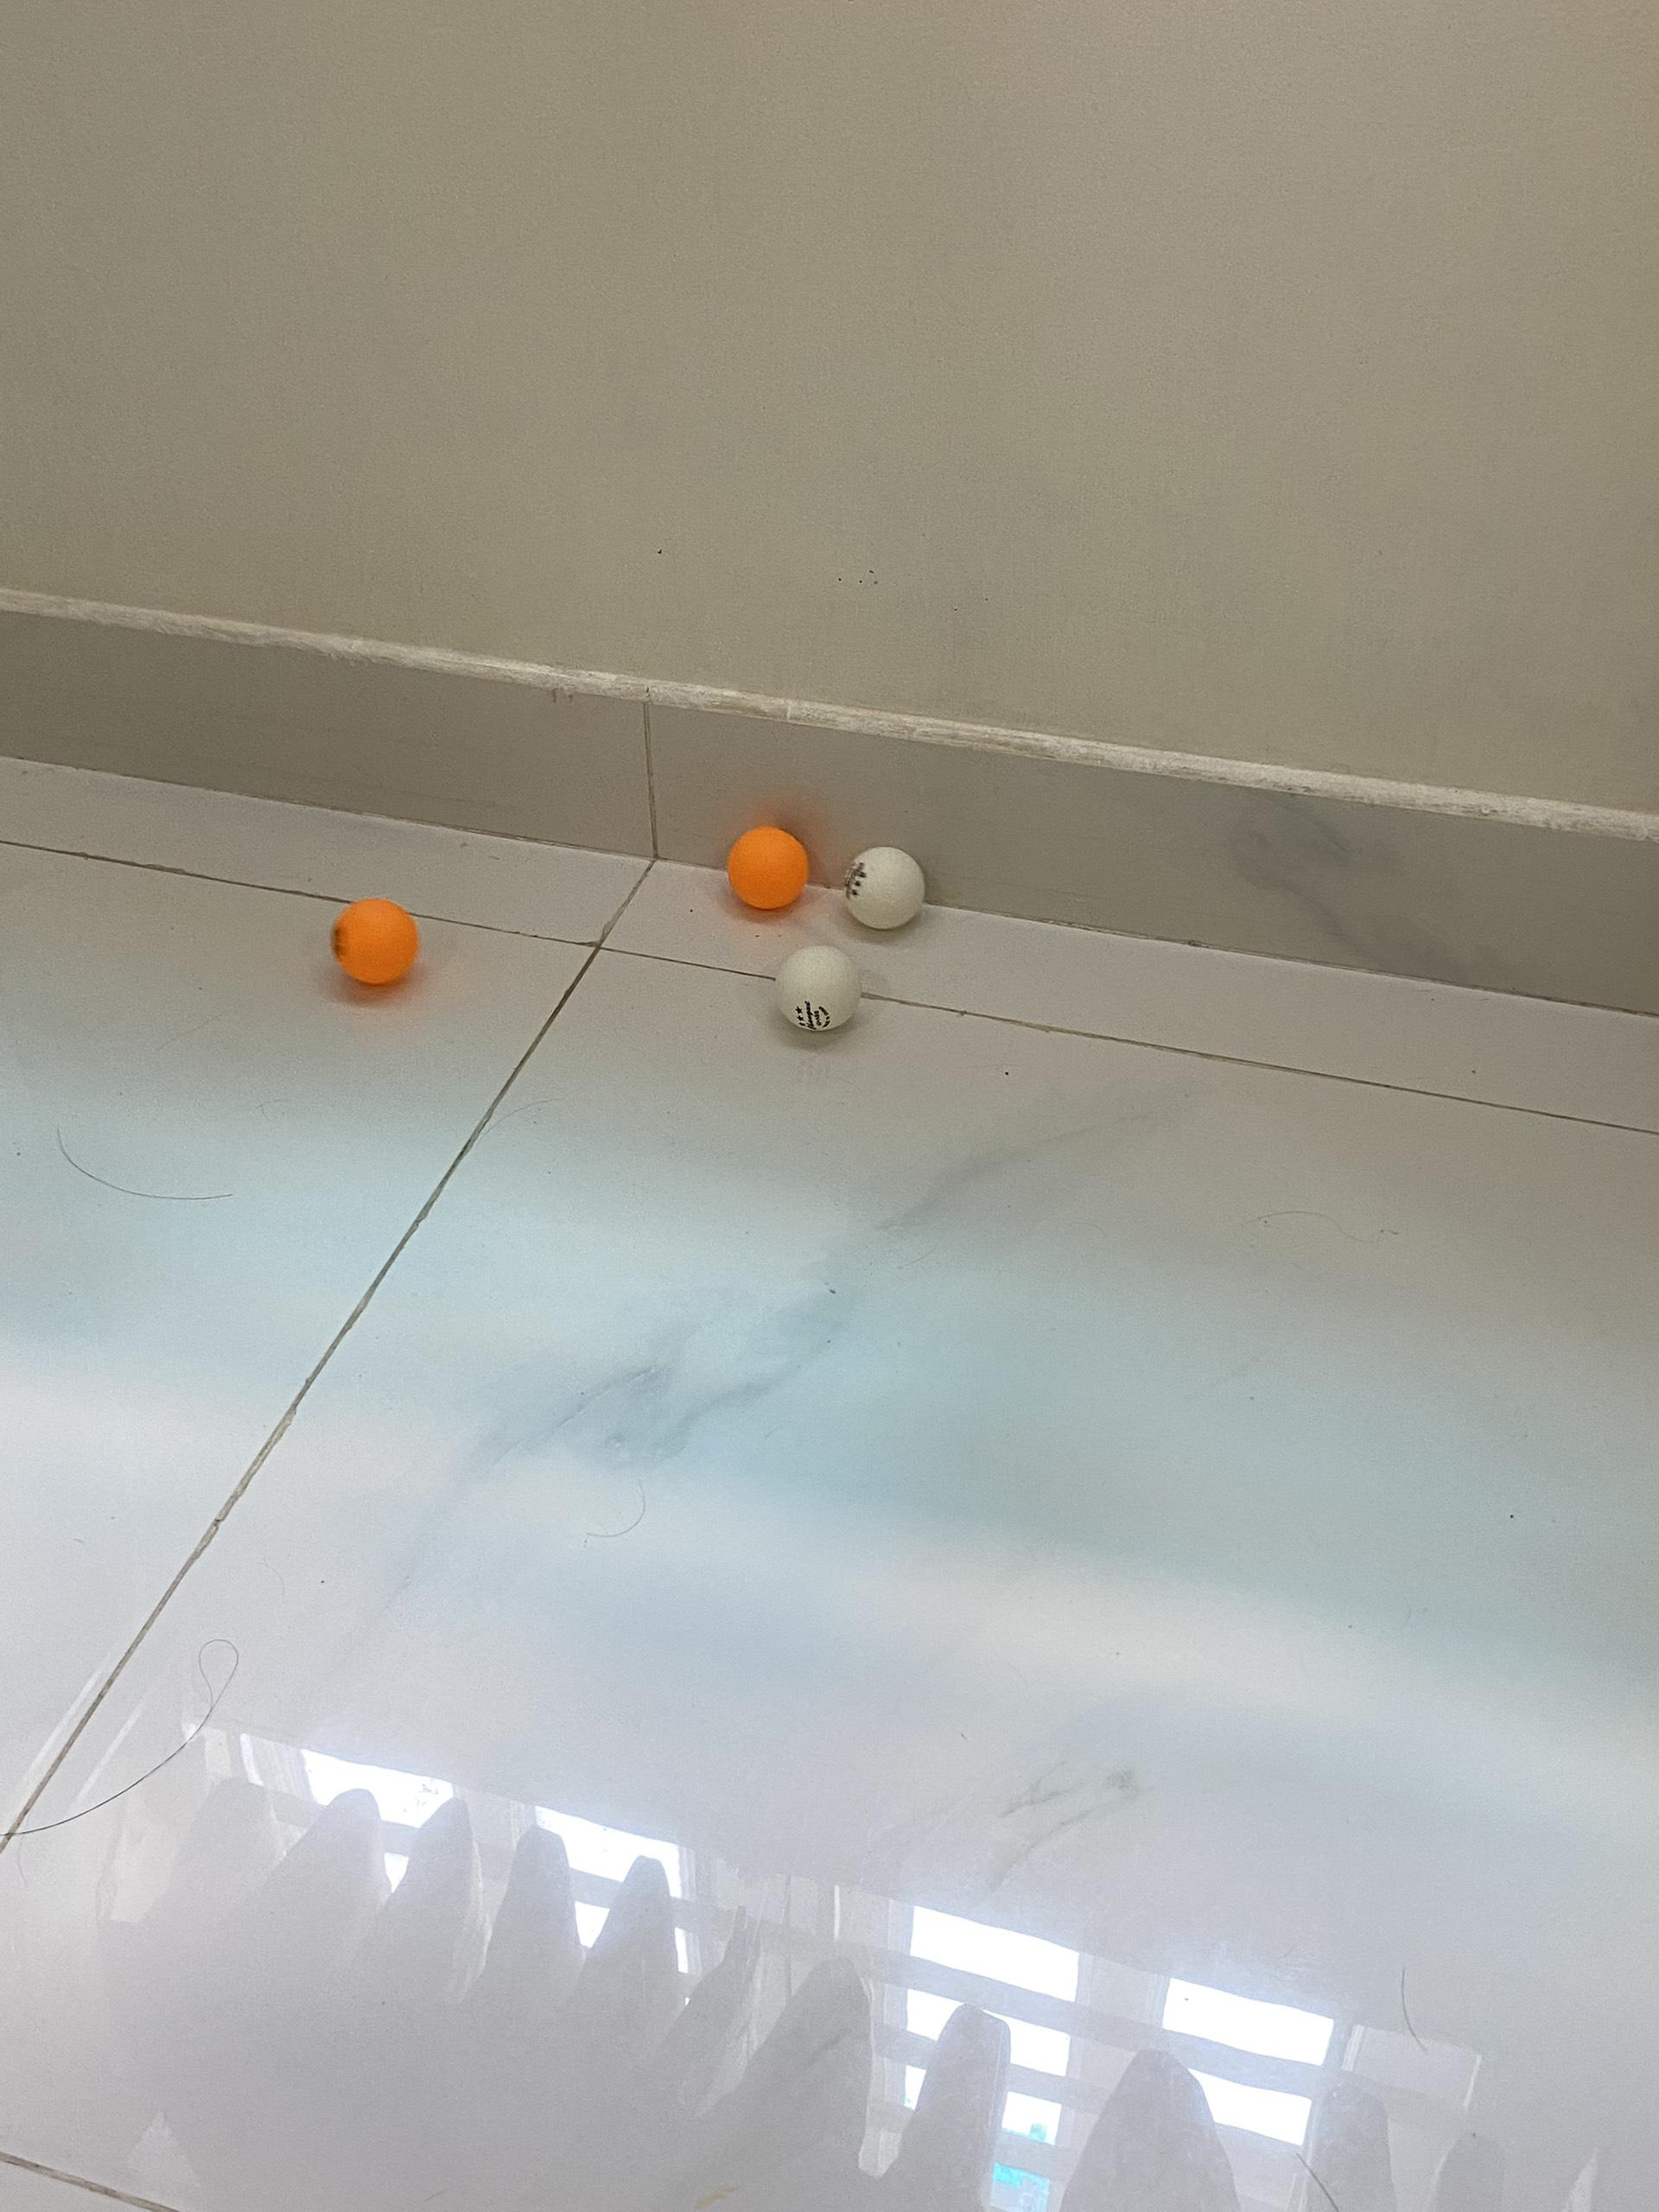oball: (331, 894, 423, 988), (725, 824, 812, 913)
